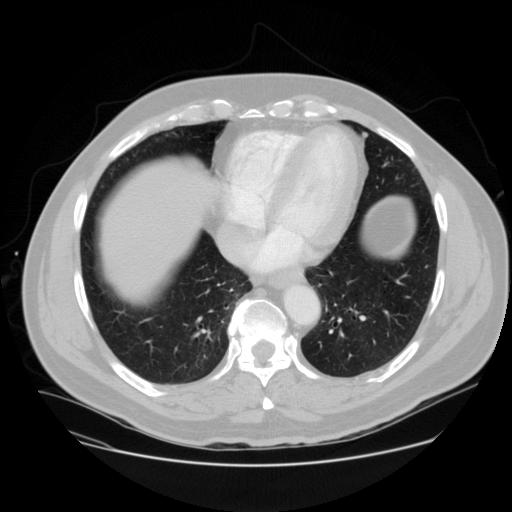nodule: (359, 129, 370, 140)
